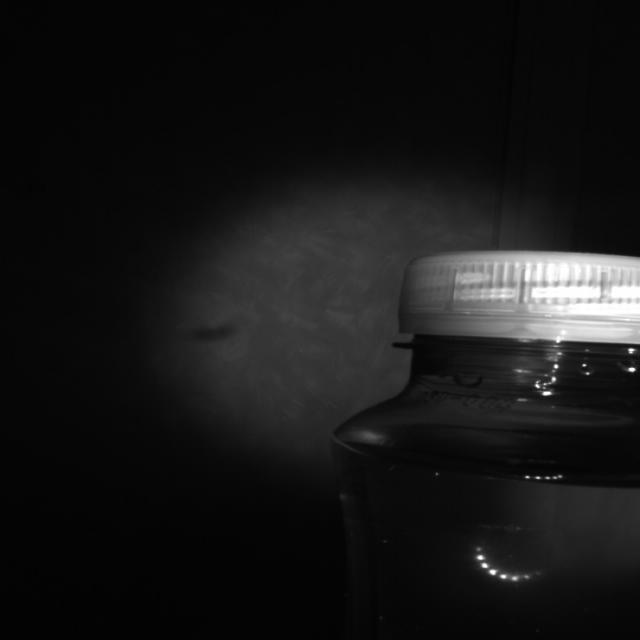Good: (394, 248, 640, 343)
